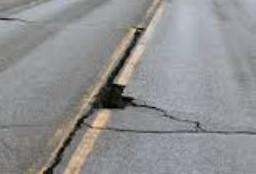crack: (42, 116, 84, 174), (89, 121, 255, 135), (104, 26, 147, 77), (138, 101, 186, 120), (0, 14, 29, 25)
pothole: (91, 80, 135, 113)
